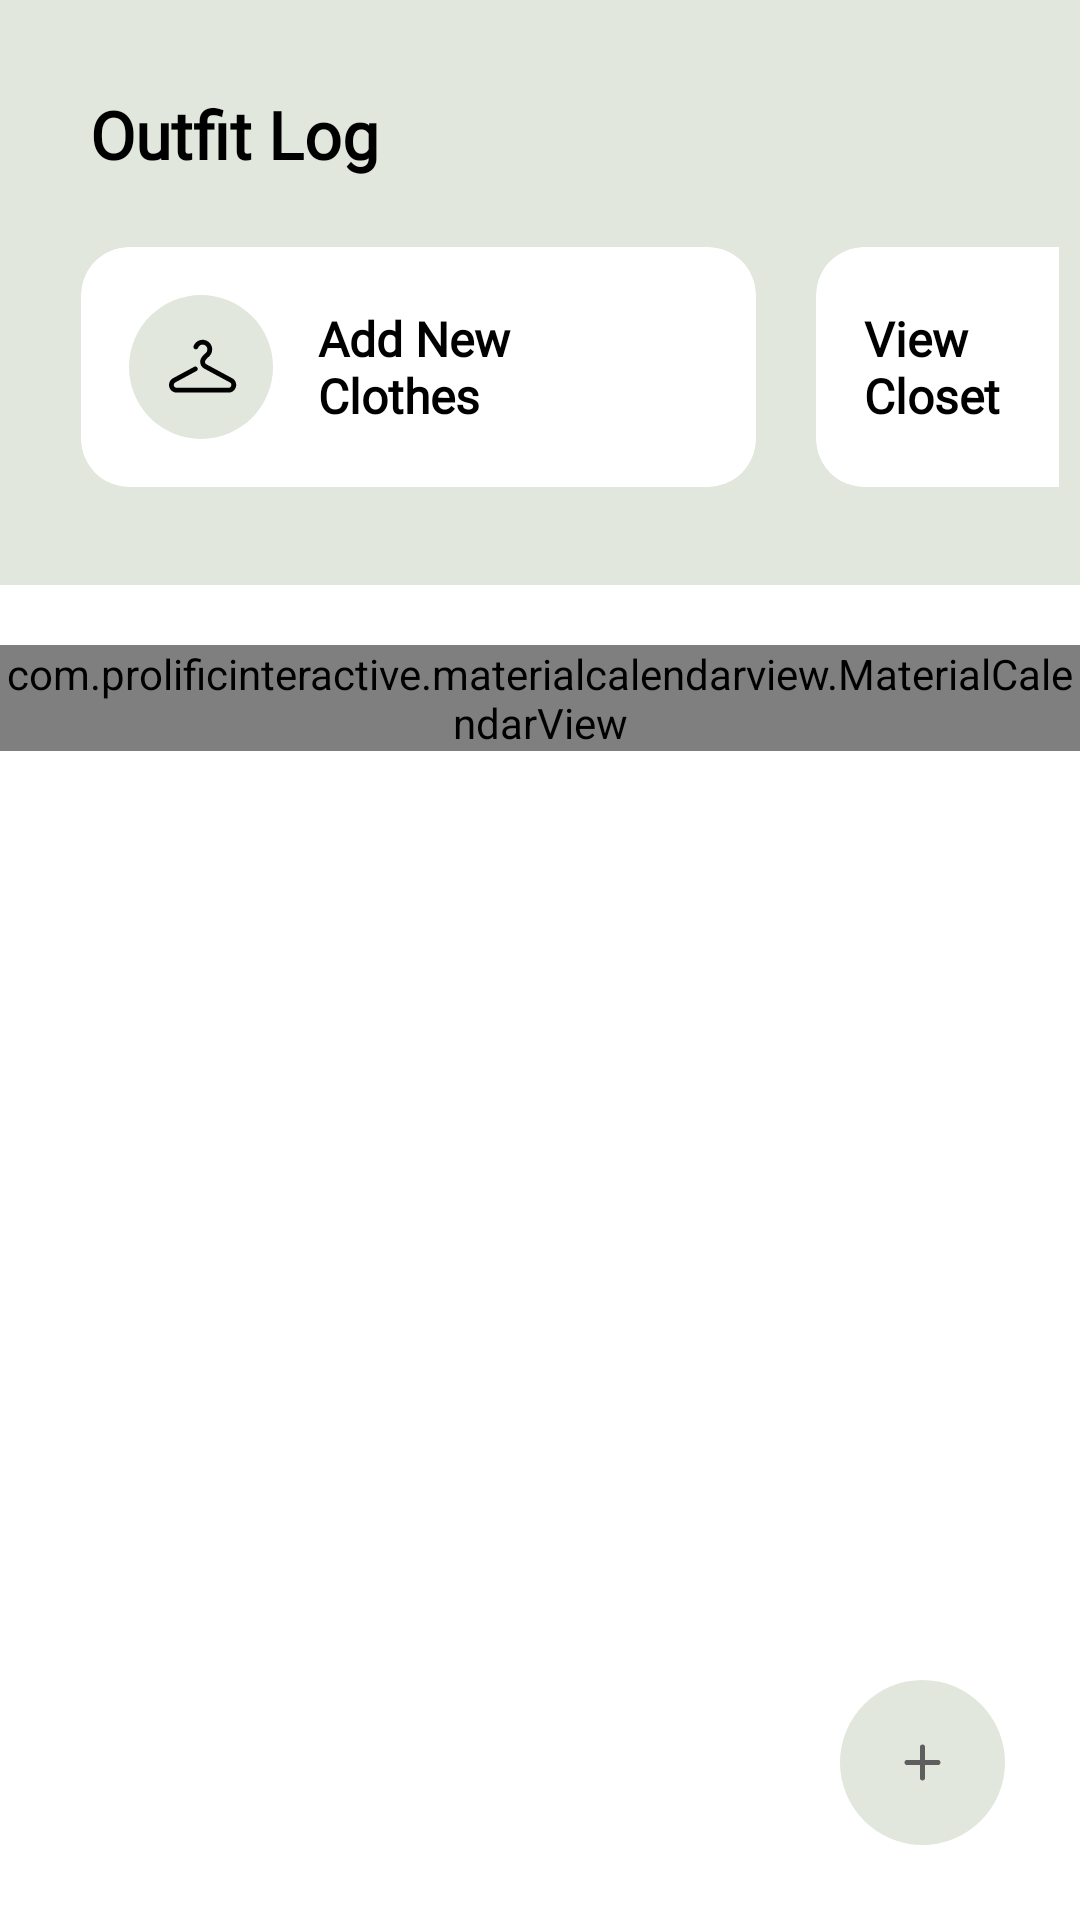

Named icons in this screenshot (1080x1920) and their bounding boxes, (x1, y1, x2, y2):
plus: (840, 1680, 1005, 1845)
